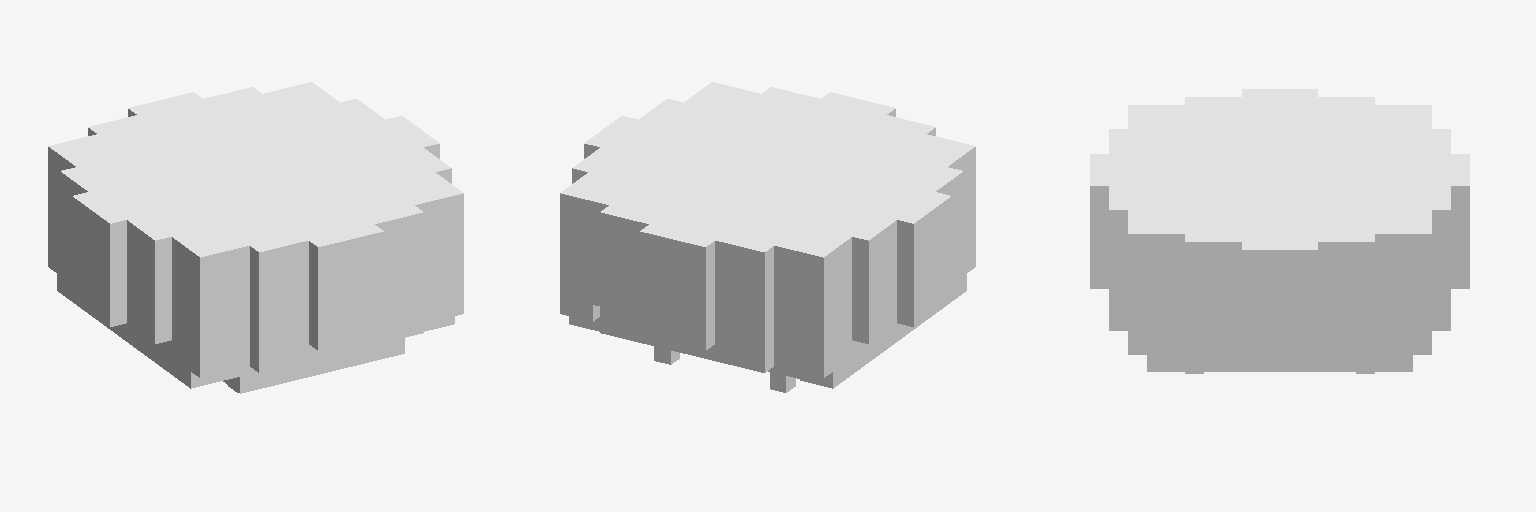
The model's file is rockpad.obj.
3 views of the same model, side by side, from view 1: azimuth 30°, elevation 25°; view 2: azimuth 150°, elevation 25°; view 3: azimuth 270°, elevation 25° (orthographic).
Bounding box in the file's own units: 20 × 10 × 20.